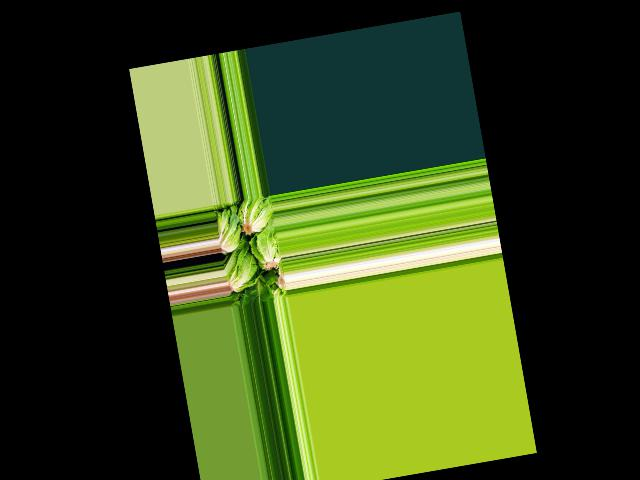lettuce: (246, 276, 274, 304)
